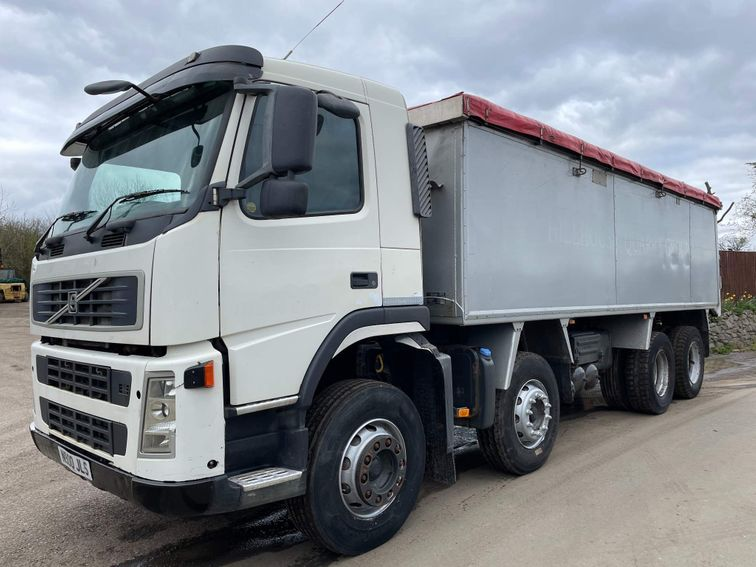Semi: (30, 44, 720, 558)
